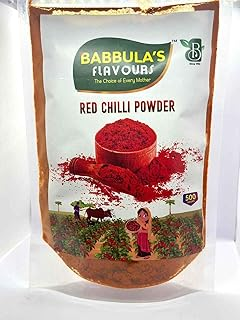Chilli Powder: (26, 2, 240, 305)
